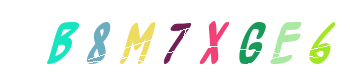6: (269, 0, 349, 80)
7: (136, 0, 216, 80)
8: (115, 0, 195, 80)
B: (22, 0, 102, 80)
E: (212, 0, 292, 80)
G: (173, 0, 253, 80)
M: (132, 0, 212, 80)
X: (153, 0, 233, 80)
